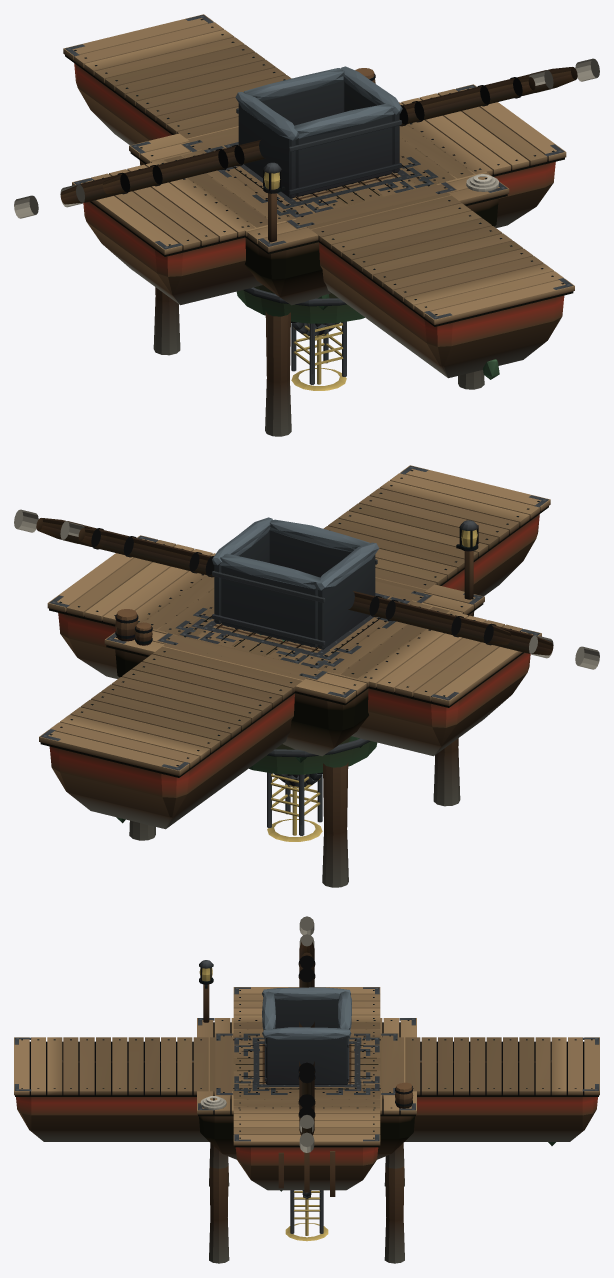
Rendered from coast-2-BH0ysxfh.glb.
3 renders of one model, top to bottom at view 1: azimuth 30°, elevation 25°; view 2: azimuth 150°, elevation 25°; view 3: azimuth 270°, elevation 25°, orthographic. The views are drawn at different scales.
Visible parts, largest first — view 1: block_7x2x32#0, block_20x2x8#0, pad_12x2x12#0, hopper_4x3#0, mount_10.6#0, mount_12.7#0, disc_8x1.5#0, block_8x2x10#0, truss_9.5#0, support_0_square#0, truss_9#0; view 2: block_7x2x32#0, block_20x2x8#0, pad_12x2x12#0, hopper_4x3#0, mount_10.6#0, mount_12.7#0, disc_8x1.5#0, block_8x2x10#0, truss_9.5#0, support_0_square#0, truss_9#0; view 3: block_7x2x32#0, block_20x2x8#0, pad_12x2x12#0, hopper_4x3#0, block_8x2x10#0, mount_12.7#0, mount_10.6#0, truss_9.5#0, disc_8x1.5#0.
Boxes of the visible parts, x1=… form: block_7x2x32#0: x1=63, y1=14, x2=574, y2=379; block_20x2x8#0: x1=72, y1=84, x2=566, y2=305; pad_12x2x12#0: x1=129, y1=68, x2=509, y2=436; hopper_4x3#0: x1=235, y1=66, x2=402, y2=198; mount_10.6#0: x1=60, y1=70, x2=553, y2=207; mount_12.7#0: x1=14, y1=58, x2=599, y2=218; disc_8x1.5#0: x1=233, y1=165, x2=410, y2=323; block_8x2x10#0: x1=181, y1=130, x2=456, y2=228; truss_9.5#0: x1=291, y1=321, x2=346, y2=384; support_0_square#0: x1=291, y1=324, x2=346, y2=390; truss_9#0: x1=293, y1=321, x2=346, y2=374; block_7x2x32#0: x1=39, y1=465, x2=550, y2=829; block_20x2x8#0: x1=47, y1=535, x2=541, y2=756; pad_12x2x12#0: x1=104, y1=520, x2=484, y2=887; hopper_4x3#0: x1=212, y1=517, x2=379, y2=649; mount_10.6#0: x1=60, y1=521, x2=553, y2=658; mount_12.7#0: x1=14, y1=509, x2=599, y2=669; disc_8x1.5#0: x1=203, y1=616, x2=380, y2=774; block_8x2x10#0: x1=157, y1=581, x2=432, y2=679; truss_9.5#0: x1=267, y1=772, x2=322, y2=835; support_0_square#0: x1=267, y1=775, x2=322, y2=841; truss_9#0: x1=267, y1=772, x2=320, y2=825; block_7x2x32#0: x1=14, y1=1037, x2=599, y2=1145; block_20x2x8#0: x1=233, y1=987, x2=380, y2=1196; pad_12x2x12#0: x1=197, y1=960, x2=416, y2=1263; hopper_4x3#0: x1=262, y1=987, x2=351, y2=1084; block_8x2x10#0: x1=215, y1=1033, x2=398, y2=1099; mount_12.7#0: x1=298, y1=916, x2=315, y2=1152; mount_10.6#0: x1=298, y1=934, x2=315, y2=1132; truss_9.5#0: x1=290, y1=1190, x2=323, y2=1233; disc_8x1.5#0: x1=235, y1=1045, x2=378, y2=1089.
Bounding box in the file's own units: 28.71 × 13.97 × 32.
